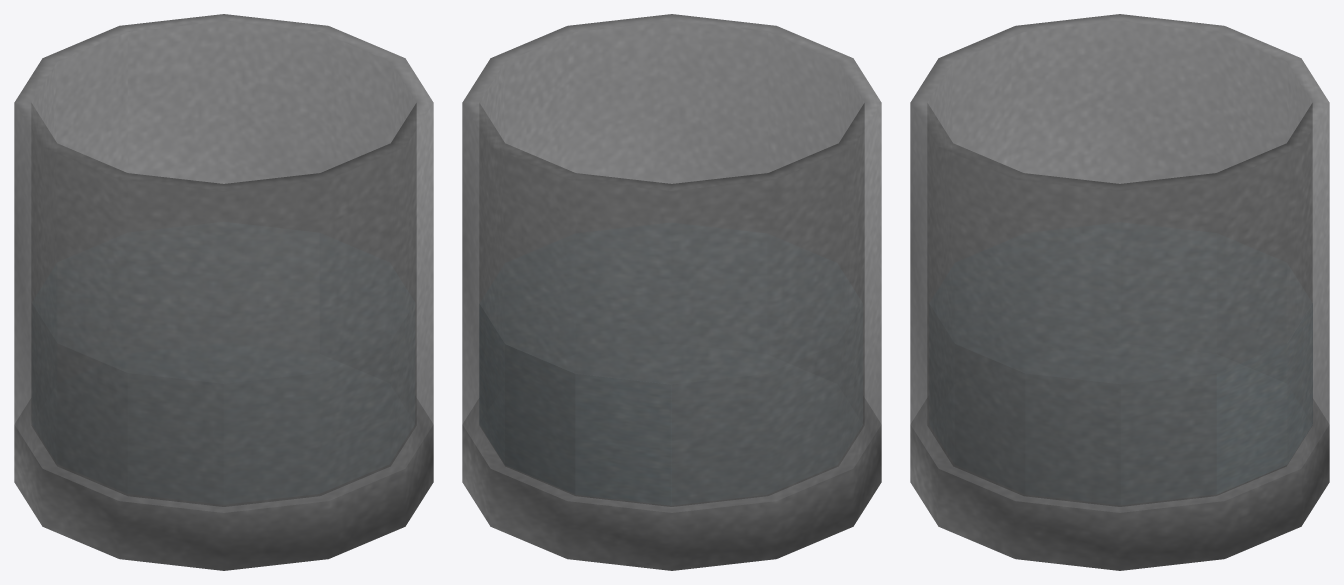
The model's file is glass_of_water.obj.
3 views of the same model, side by side, from view 1: azimuth 30°, elevation 25°; view 2: azimuth 150°, elevation 25°; view 3: azimuth 270°, elevation 25° (orthographic).
Parts seen in each view (by area): view 1: glass_of_water; view 2: glass_of_water; view 3: glass_of_water.
Boxes of the visible parts, <box> form: glass_of_water: <box>14,14,433,570</box>; glass_of_water: <box>462,14,881,570</box>; glass_of_water: <box>910,14,1329,570</box>.
Size of the model in its own units: 0.0989 by 0.0989 by 0.0989.
